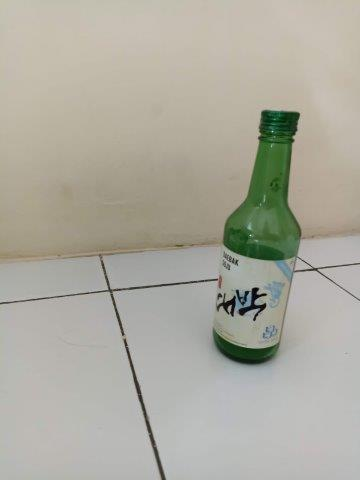botolkaca: (210, 110, 303, 364)
